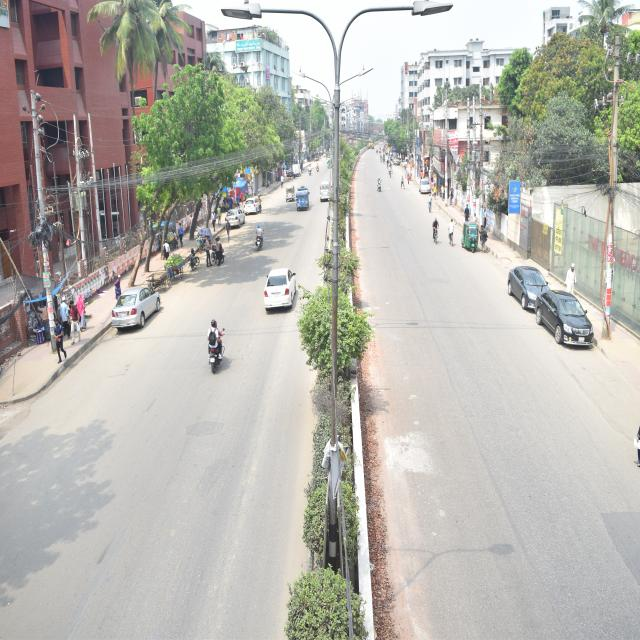car: (101, 266, 176, 372), (534, 264, 600, 358), (493, 222, 555, 317), (242, 249, 307, 324), (234, 184, 278, 232), (214, 196, 251, 234), (315, 174, 343, 220), (410, 170, 439, 204)
motorbike: (185, 293, 236, 386), (201, 227, 237, 284), (248, 215, 274, 270), (366, 162, 388, 208), (302, 161, 316, 186), (310, 155, 322, 174)
pickup-van: (289, 165, 314, 220), (288, 151, 302, 178)
